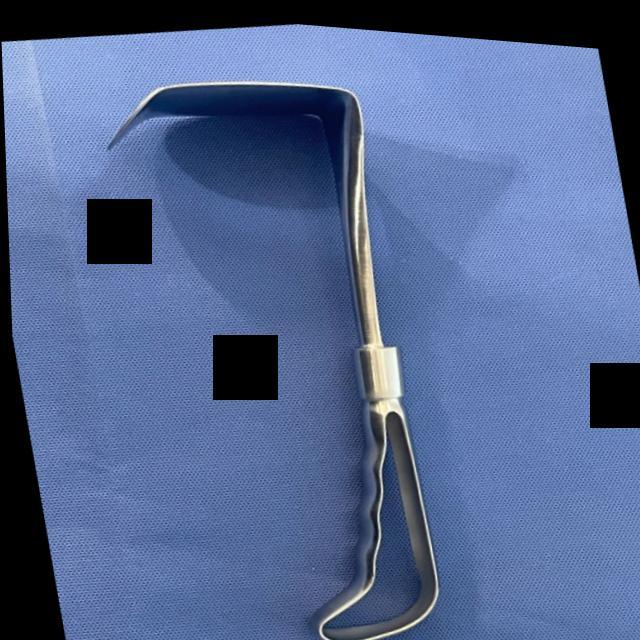Kelly Retractor: (90, 45, 462, 640)
